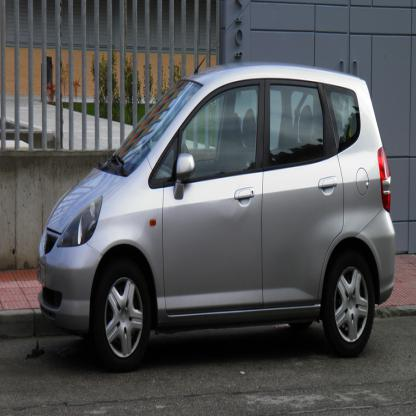Car: (37, 0, 396, 370)
